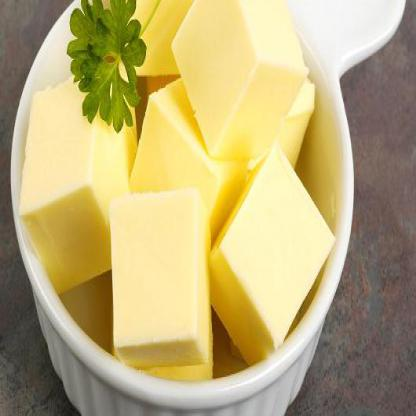butter: (209, 154, 331, 356), (168, 0, 305, 172), (24, 78, 134, 276), (128, 71, 246, 251), (107, 192, 209, 382)
